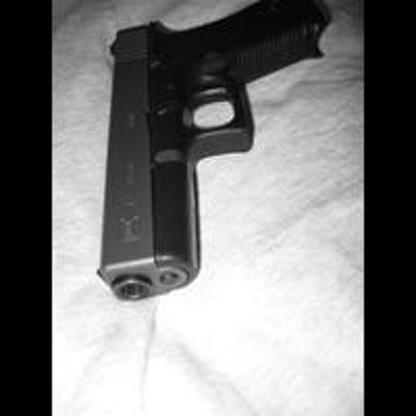weapon: (74, 0, 333, 301)
